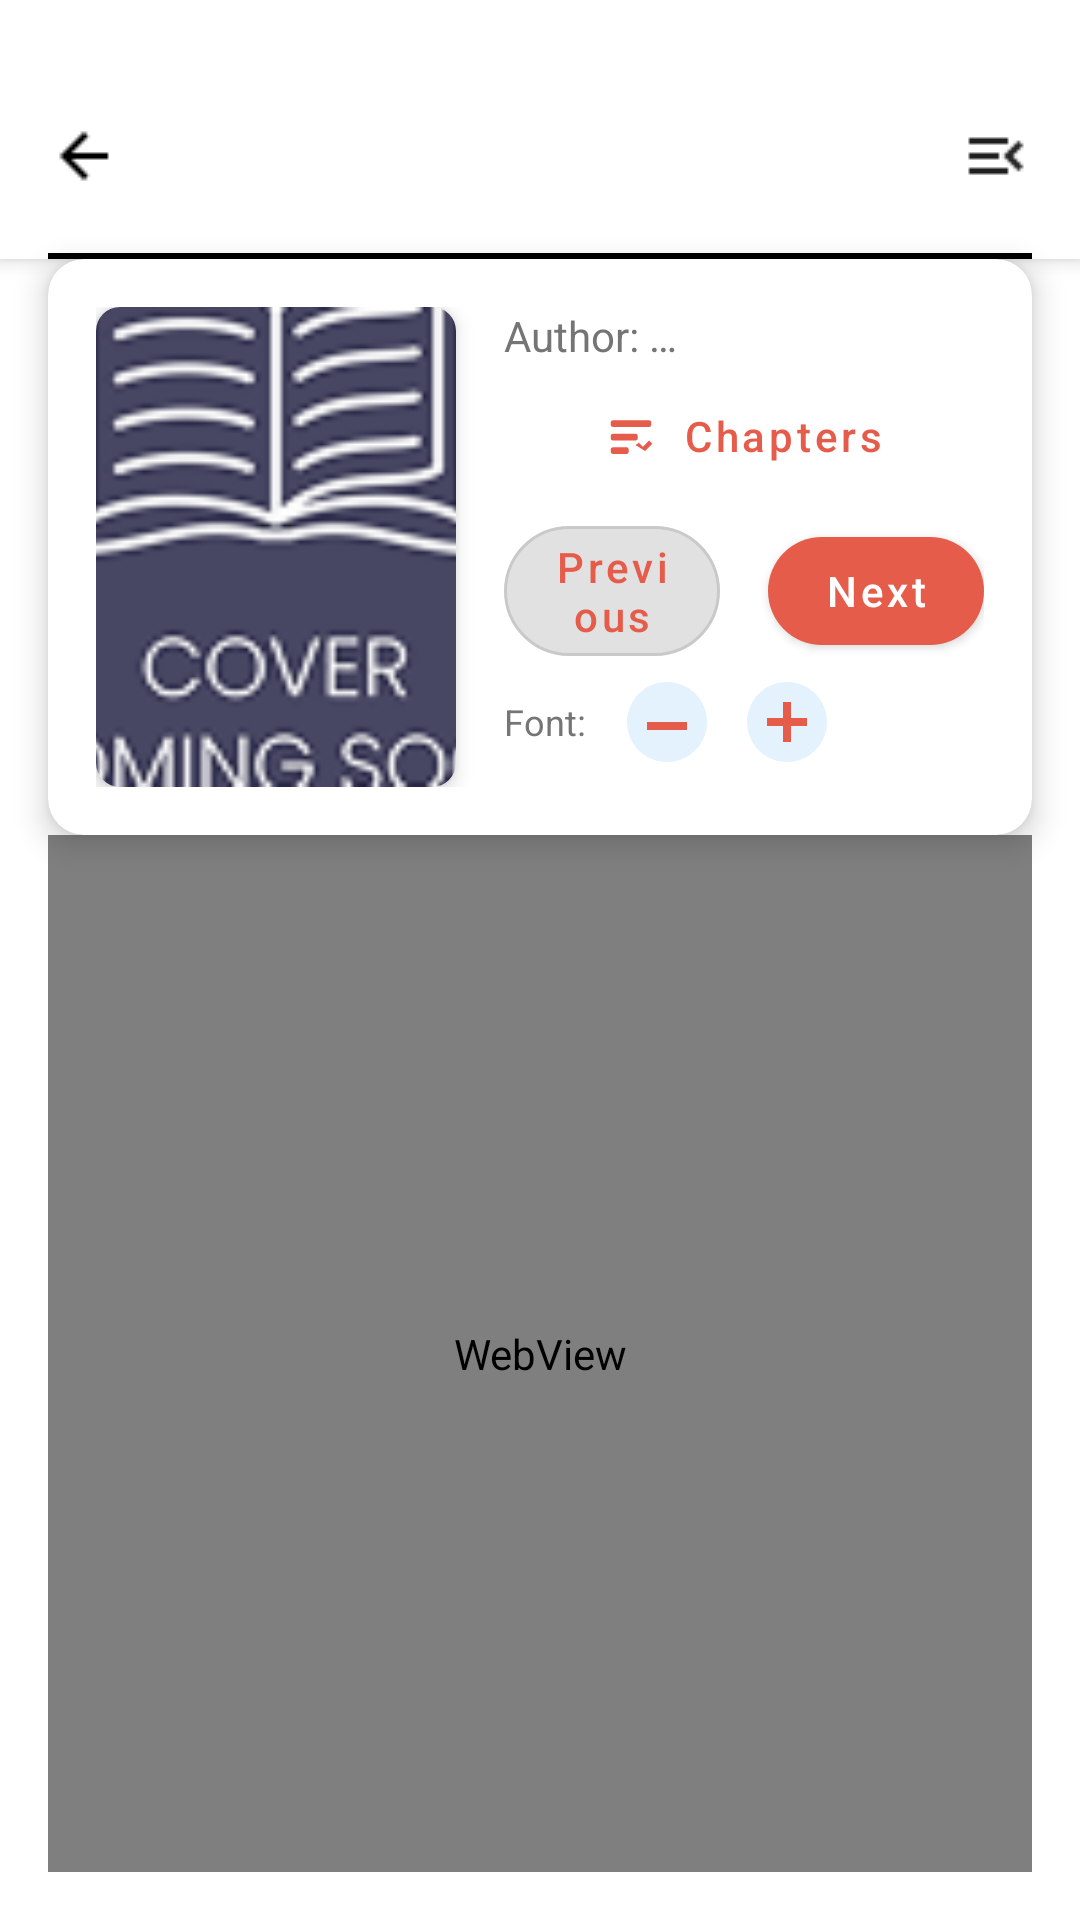

Where icons sit on this 1080 × 1920 app screen, as (x1, y1, x2, y2):
Back: (59, 131, 109, 181)
Menu: (968, 137, 1024, 175)
